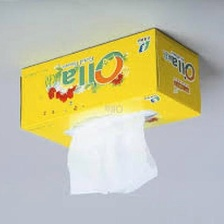book: (14, 23, 206, 153)
tissue: (61, 107, 164, 201)
